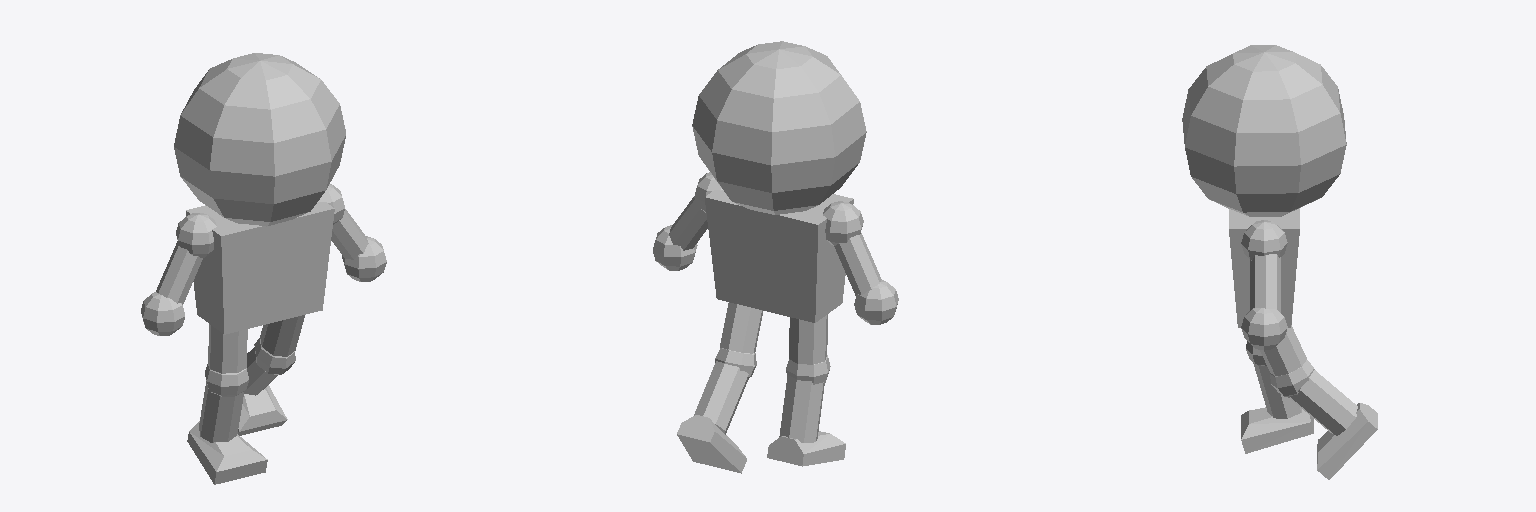
The model's file is astronaut1.obj.
3 renders of one model, left to right at view 1: azimuth 30°, elevation 25°; view 2: azimuth 150°, elevation 25°; view 3: azimuth 270°, elevation 25°, orthographic.
Parts seen in each view (by area): view 1: sphere1, cube8, cylinder4_copy21, cylinder4_copy6, cylinder4_copy20, cube8_copy9, sphere10_copy12; view 2: sphere1, cube8_copy9, cube8, cylinder4_copy21, cylinder4_copy6, cylinder4_copy20, sphere10_copy12; view 3: sphere1, cube8_copy9, cube8, cylinder4_copy20, sphere10_copy12.
Boxes of the visible parts, x1=… form: sphere1: x1=174, y1=53, x2=345, y2=334; cube8: x1=187, y1=381, x2=267, y2=484; cylinder4_copy21: x1=141, y1=241, x2=202, y2=335; cylinder4_copy6: x1=205, y1=324, x2=248, y2=396; cylinder4_copy20: x1=331, y1=209, x2=386, y2=281; cube8_copy9: x1=238, y1=347, x2=287, y2=435; sphere10_copy12: x1=254, y1=315, x2=304, y2=374; sphere1: x1=692, y1=41, x2=866, y2=322; cube8_copy9: x1=677, y1=361, x2=748, y2=473; cube8: x1=767, y1=375, x2=845, y2=466; cylinder4_copy21: x1=834, y1=233, x2=898, y2=324; cylinder4_copy6: x1=786, y1=314, x2=830, y2=384; cylinder4_copy20: x1=653, y1=197, x2=707, y2=270; sphere10_copy12: x1=715, y1=302, x2=762, y2=378; sphere1: x1=1182, y1=45, x2=1346, y2=327; cube8_copy9: x1=1290, y1=370, x2=1377, y2=479; cube8: x1=1241, y1=363, x2=1313, y2=453; cylinder4_copy20: x1=1241, y1=254, x2=1287, y2=350; sphere10_copy12: x1=1260, y1=325, x2=1314, y2=397.
Bounding box in the file's own units: 3.18 × 5.08 × 2.23.